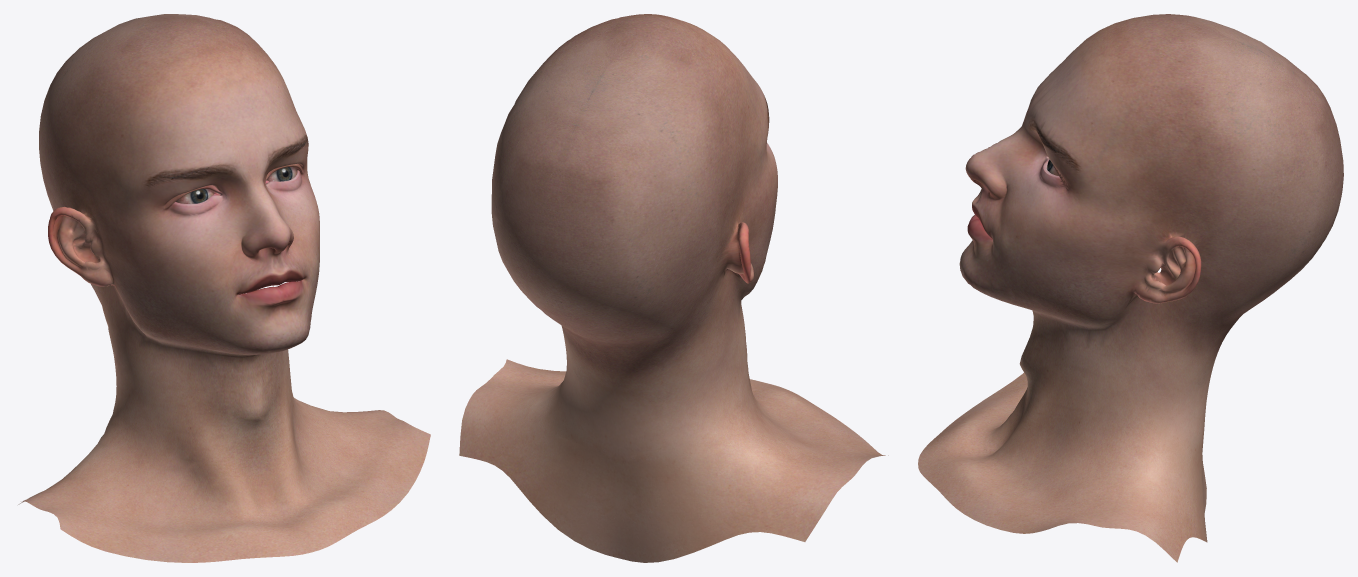
3 views of the same model, side by side, from view 1: azimuth 30°, elevation 25°; view 2: azimuth 150°, elevation 25°; view 3: azimuth 270°, elevation 25° (orthographic). The views are drawn at different scales.
Parts seen in each view (by area): view 1: face; view 2: face; view 3: face.
Boxes of the visible parts, x1,y1,x2,y2 form: face: (18, 14, 430, 562); face: (459, 14, 888, 562); face: (918, 14, 1343, 562).
Size of the model in its own units: 25.89 by 33.67 by 25.66.
Materials: 1 (1 with a texture image).
